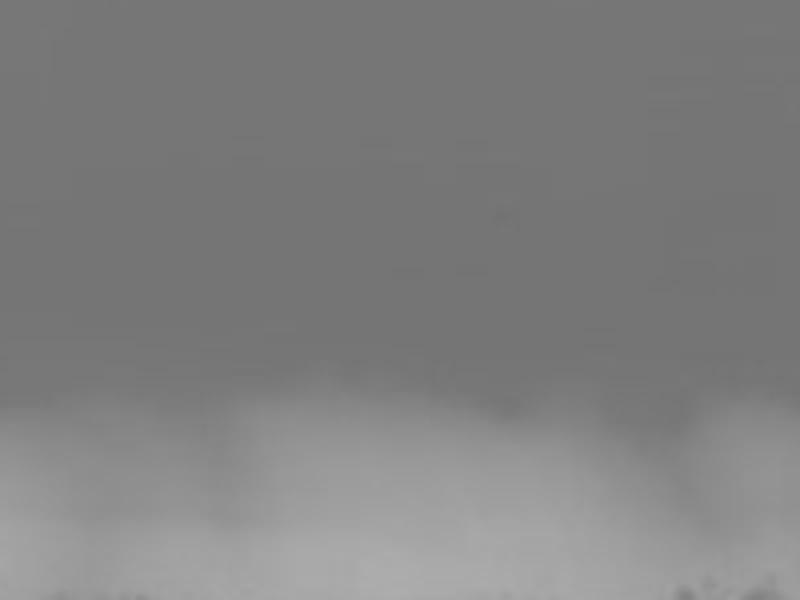defect: (738, 582, 779, 600), (666, 581, 693, 600), (705, 571, 723, 590)
